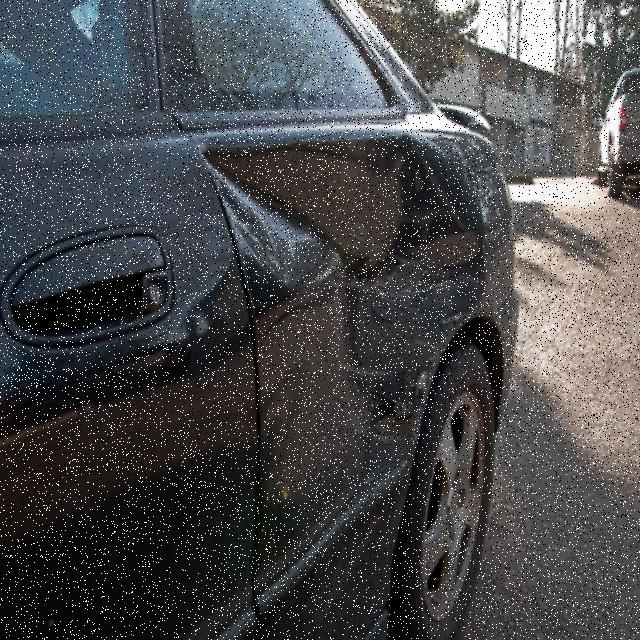quaterpanel-dent: (247, 137, 515, 456)
